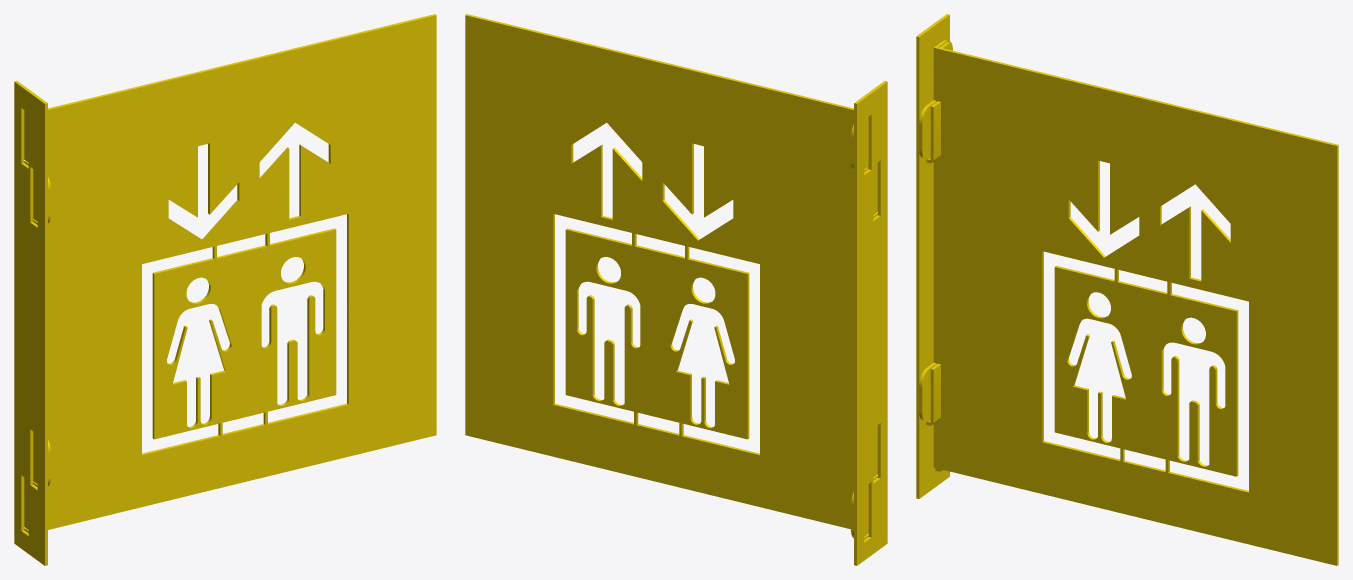
3 views of the same model, side by side, from view 1: azimuth 30°, elevation 25°; view 2: azimuth 150°, elevation 25°; view 3: azimuth 330°, elevation 25° (orthographic).
Visible parts, largest first — view 1: group_1.008, group_1.001, group_2, group_1.004, group_3, group_1.005, group_1.007; view 2: group_1.008, group_1, group_2, group_1.004, group_3, group_1.005, group_1.007; view 3: group_1.008, group_1.001, group_2, group_1.004, group_3, group_1.005, group_2.004, group_2.003, group_1.007.
Boxes of the visible parts, bbox=[...] form: group_1.008: bbox=[33, 14, 436, 529]; group_1.001: bbox=[154, 230, 336, 439]; group_2: bbox=[14, 81, 47, 565]; group_1.004: bbox=[142, 214, 348, 455]; group_3: bbox=[24, 110, 50, 529]; group_1.005: bbox=[262, 284, 324, 405]; group_1.007: bbox=[168, 306, 231, 428]; group_1.008: bbox=[465, 14, 868, 529]; group_1: bbox=[565, 230, 747, 439]; group_2: bbox=[854, 81, 887, 565]; group_1.004: bbox=[553, 214, 759, 455]; group_3: bbox=[851, 117, 877, 538]; group_1.005: bbox=[577, 284, 639, 405]; group_1.007: bbox=[670, 306, 733, 428]; group_1.008: bbox=[933, 46, 1338, 565]; group_1.001: bbox=[1054, 267, 1236, 476]; group_2: bbox=[916, 14, 949, 498]; group_1.004: bbox=[1042, 251, 1248, 492]; group_3: bbox=[919, 40, 952, 465]; group_1.005: bbox=[1161, 345, 1223, 466]; group_2.004: bbox=[926, 101, 940, 163]; group_2.003: bbox=[926, 363, 940, 425]; group_1.007: bbox=[1067, 320, 1130, 442].
Bounding box in the file's own units: 0.4051 × 0.4401 × 0.053.
Materials: 3 (2 with a texture image).
